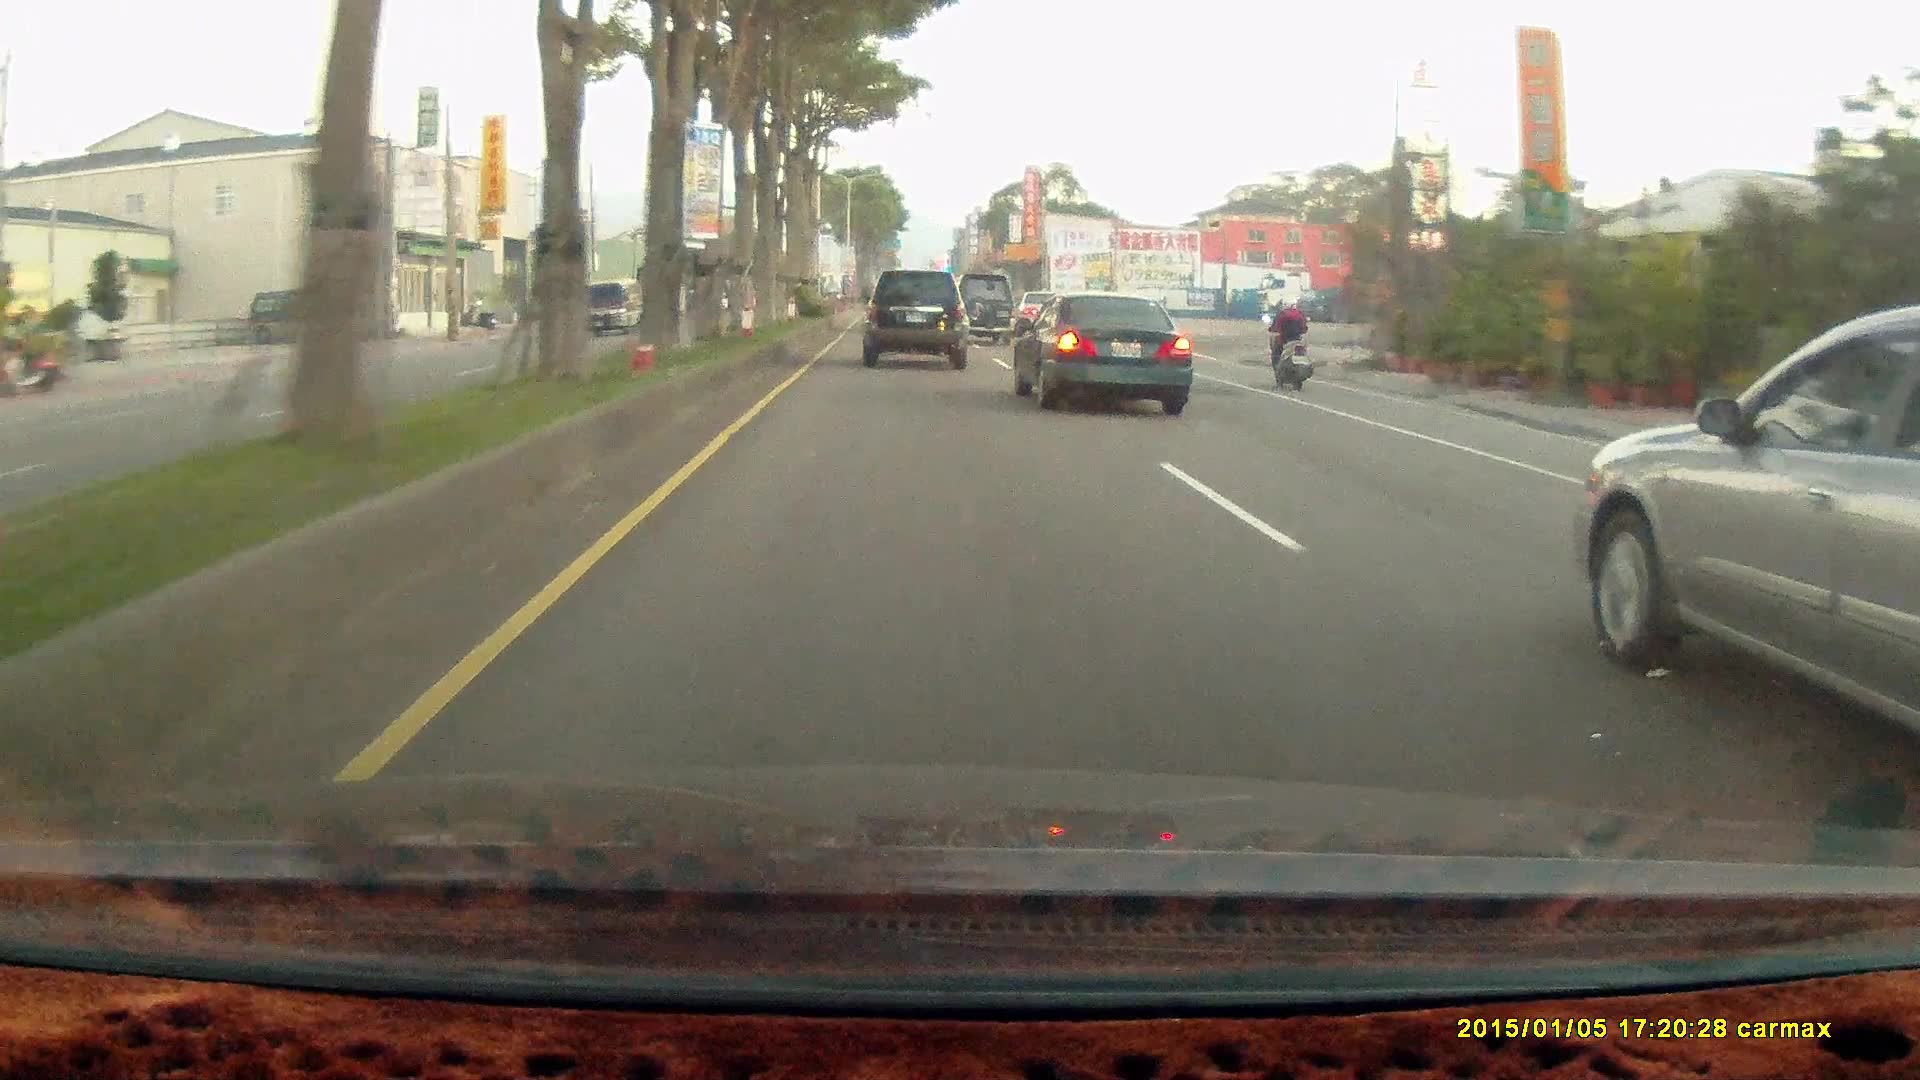rider: (1255, 289, 1323, 397), (1261, 288, 1314, 388)
vehicle: (1567, 296, 1920, 762), (1011, 288, 1192, 413), (1011, 287, 1192, 409), (1261, 264, 1496, 321), (859, 268, 972, 369), (859, 267, 967, 365), (949, 272, 1017, 346), (249, 291, 348, 342), (575, 279, 644, 335)
